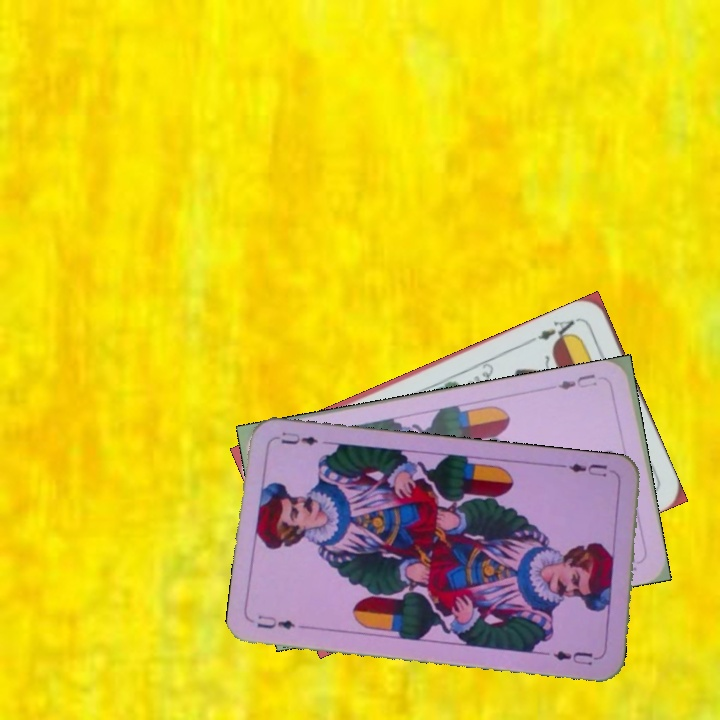EA: (533, 314, 582, 347)
EU: (560, 459, 619, 480), (253, 611, 310, 632), (554, 370, 608, 392)
